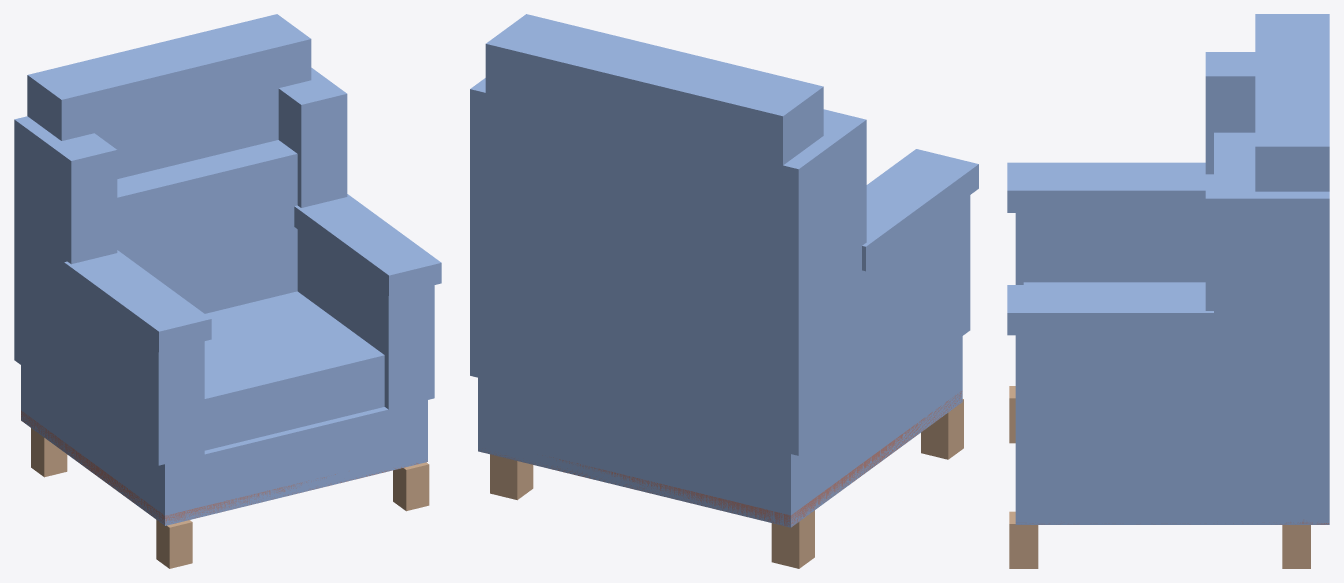
Rendered from armchairWingback.glb.
3 renders of one model, left to right at view 1: azimuth 30°, elevation 25°; view 2: azimuth 150°, elevation 25°; view 3: azimuth 270°, elevation 25°, orthographic. The views are drawn at different scales.
Visible parts, largest first — view 1: armchairWingback; view 2: armchairWingback; view 3: armchairWingback.
Boxes of the visible parts, left/top/right/bottom form: armchairWingback: left=14, top=14, right=441, bottom=568; armchairWingback: left=470, top=14, right=978, bottom=568; armchairWingback: left=1007, top=14, right=1329, bottom=568.
Size of the model in its own units: 0.43 by 0.56 by 0.39.
